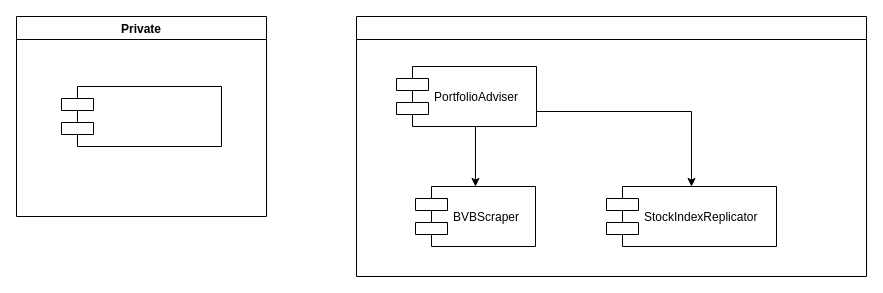
Image size: 883x293. Some labels were removed from this diagram. The shapes that lost their labels are listed below. From the top down, each one's box as (x1, y1, x2, y2) in pixels, then its label:
(60, 86, 222, 146): BTTadeAutomation
(356, 16, 866, 276): Public
